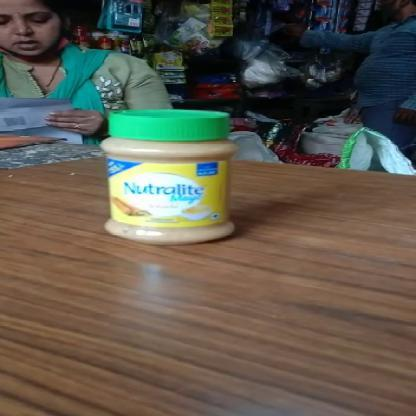Nutralite ACHARI MAYO 300g-275g-25g-: (104, 109, 236, 247)
